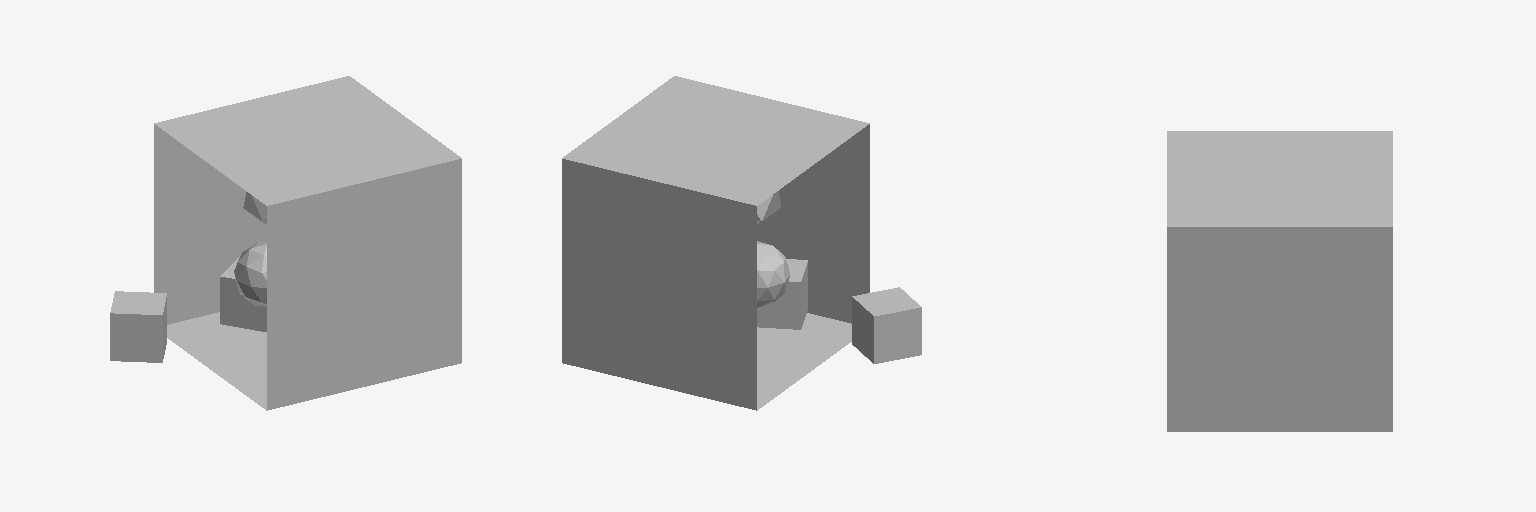
File: cornelius final.obj
The picture shows the model from 3 angles: view 1: azimuth 30°, elevation 25°; view 2: azimuth 150°, elevation 25°; view 3: azimuth 270°, elevation 25°; orthographic projection.
Parts seen in each view (by area): view 1: Plane.002, Plane.003, Plane.001, Plane.004, Cube, Cube.001, Icosphere; view 2: Plane.001, Plane.003, Plane.002, Plane.004, Cube, Cube.002, Icosphere; view 3: Plane, Plane.003.
Boxes of the visible parts, x1=… form: Plane.002: x1=267, y1=159, x2=461, y2=410; Plane.003: x1=154, y1=76, x2=461, y2=205; Plane.001: x1=154, y1=124, x2=266, y2=324; Plane.004: x1=167, y1=312, x2=266, y2=410; Cube: x1=110, y1=291, x2=166, y2=362; Cube.001: x1=220, y1=257, x2=266, y2=331; Icosphere: x1=234, y1=242, x2=266, y2=306; Plane.001: x1=562, y1=159, x2=756, y2=410; Plane.003: x1=562, y1=76, x2=869, y2=205; Plane.002: x1=757, y1=124, x2=869, y2=323; Plane.004: x1=757, y1=313, x2=851, y2=410; Cube: x1=852, y1=287, x2=921, y2=363; Cube.002: x1=757, y1=259, x2=807, y2=329; Icosphere: x1=757, y1=241, x2=789, y2=307; Plane: x1=1167, y1=227, x2=1392, y2=431; Plane.003: x1=1167, y1=131, x2=1392, y2=226.
Bounding box in the file's own units: 9.2 × 6 × 6.